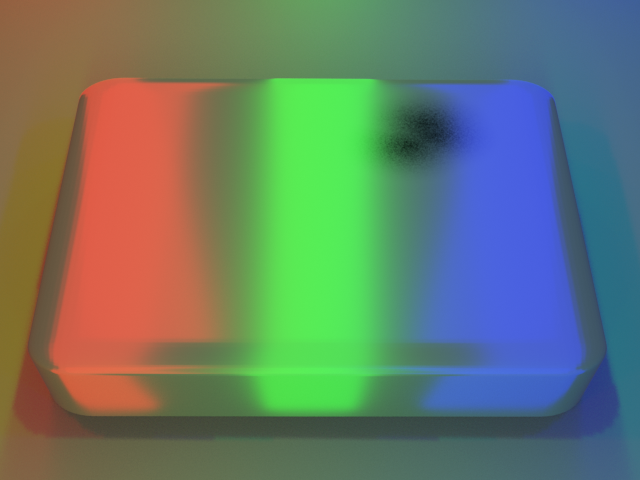stain: (306, 64, 529, 181)
